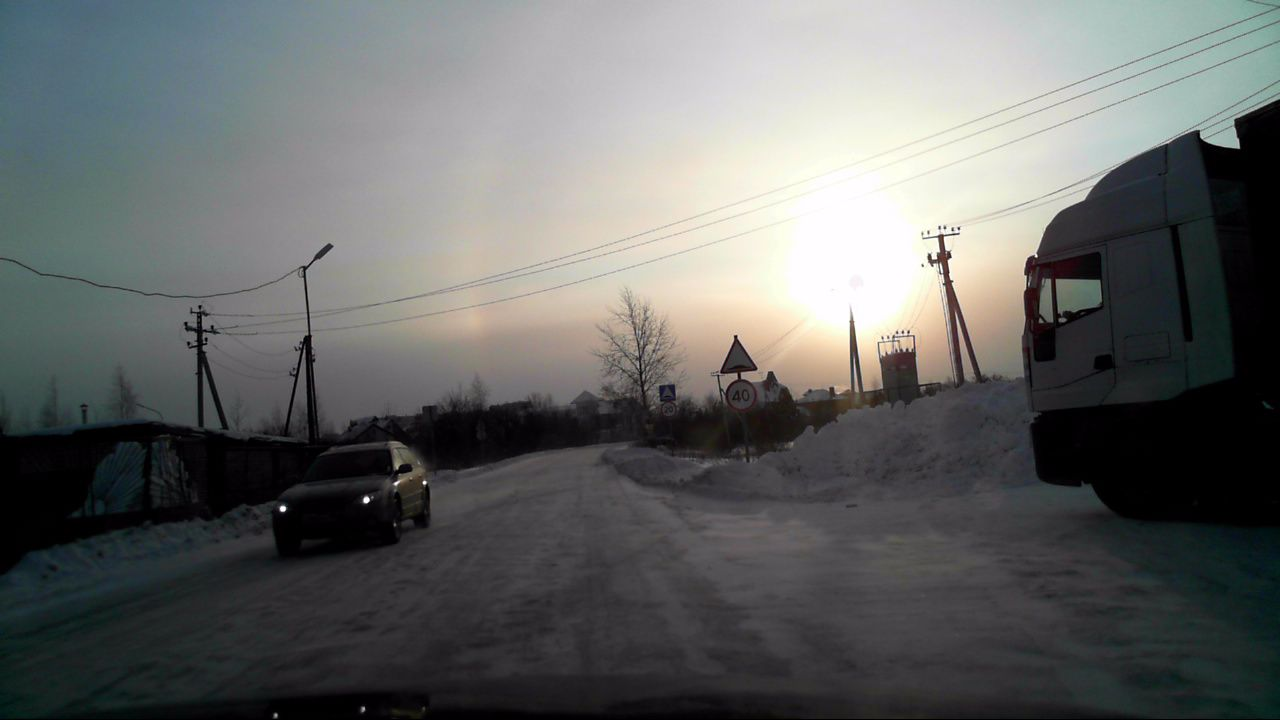speed_warning_40: (726, 379, 756, 410)
